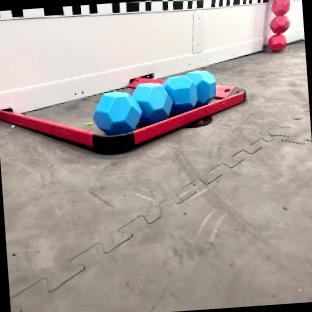V5_BLUE: (94, 69, 215, 133), (93, 90, 140, 133), (133, 81, 171, 124)
V5_RED: (269, 32, 286, 50), (272, 0, 288, 15)
